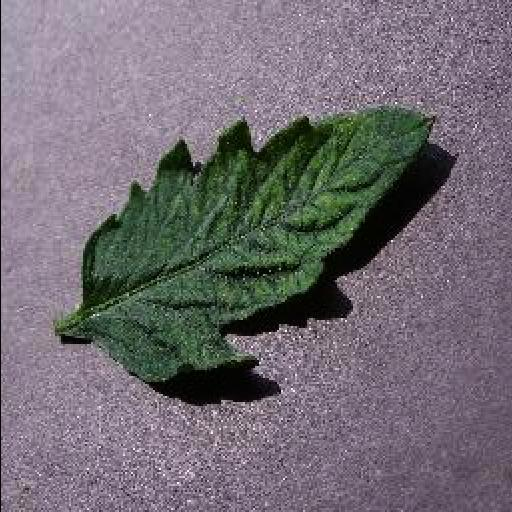Mosaic Virus: (75, 104, 439, 388)
